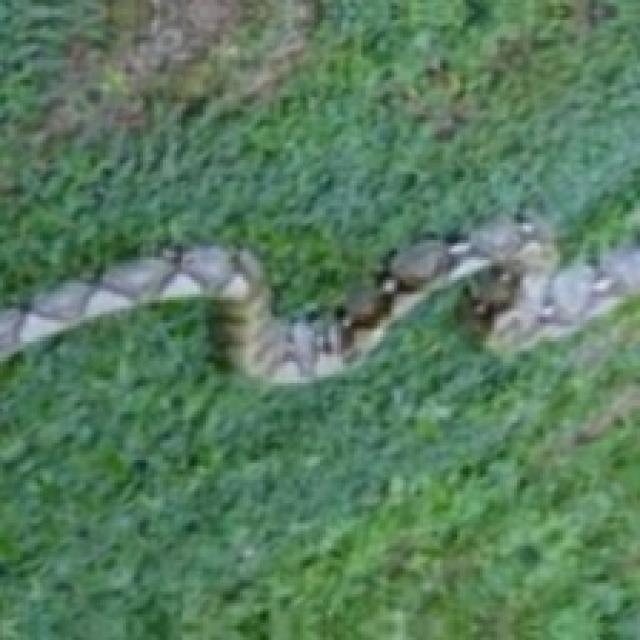reticulated python: (0, 217, 637, 380)
